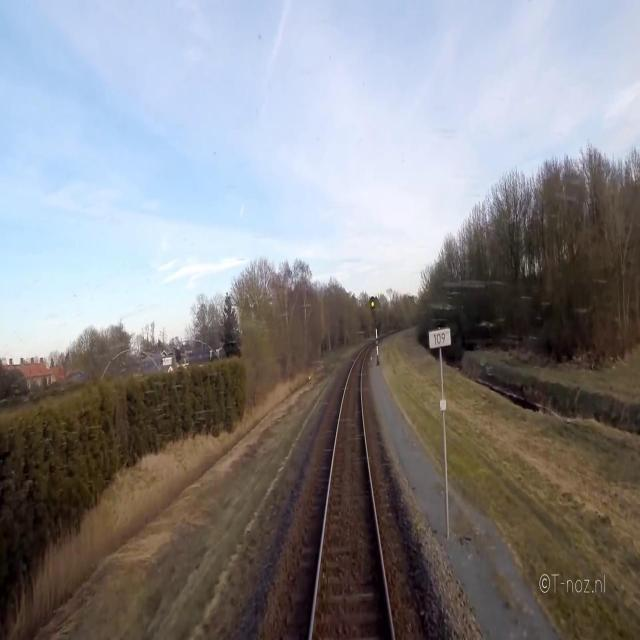rail-track: (312, 350, 390, 639)
